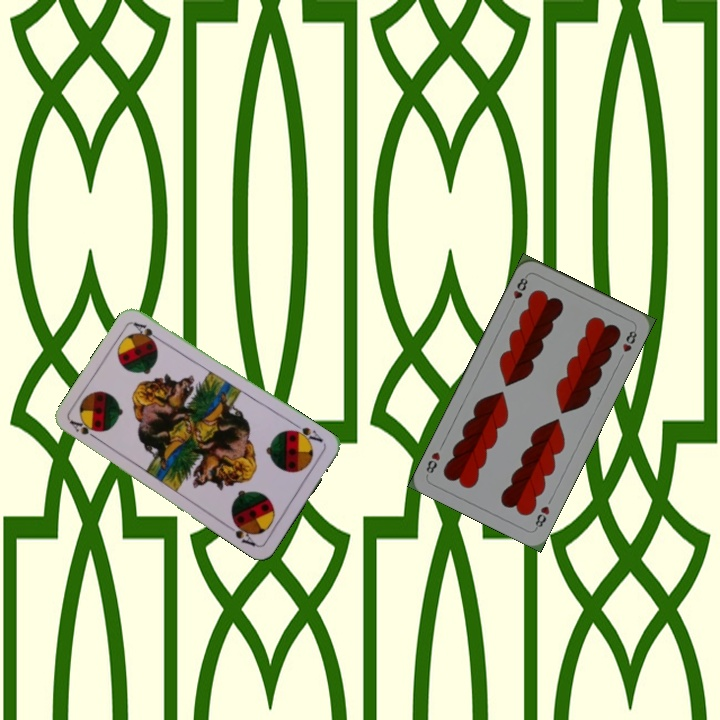H8: (507, 272, 531, 310), (531, 502, 552, 532)
SA: (66, 416, 103, 444), (287, 419, 325, 446)
